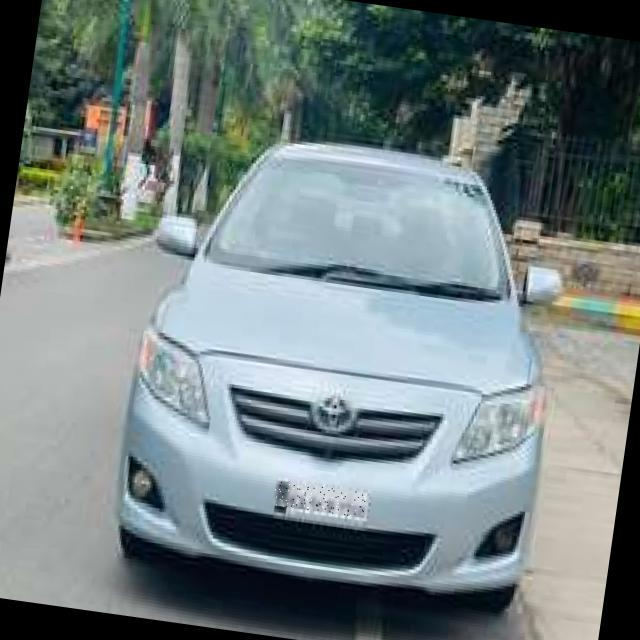Plate: (274, 482, 369, 520)
